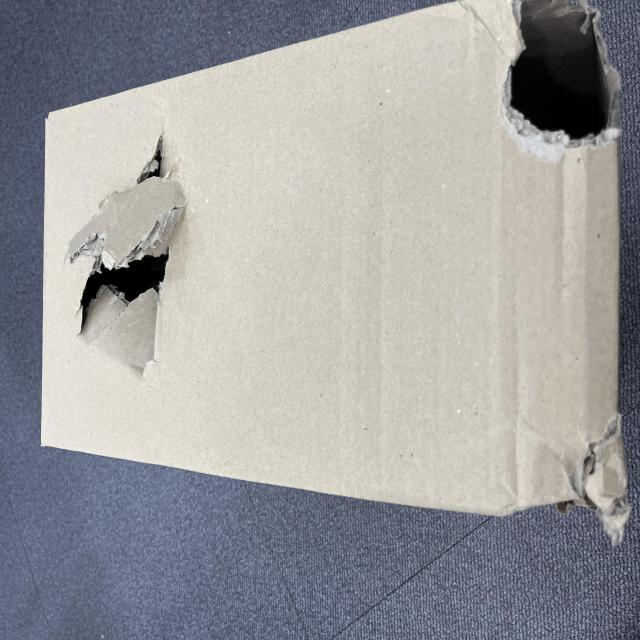damaged: (212, 104, 378, 230)
